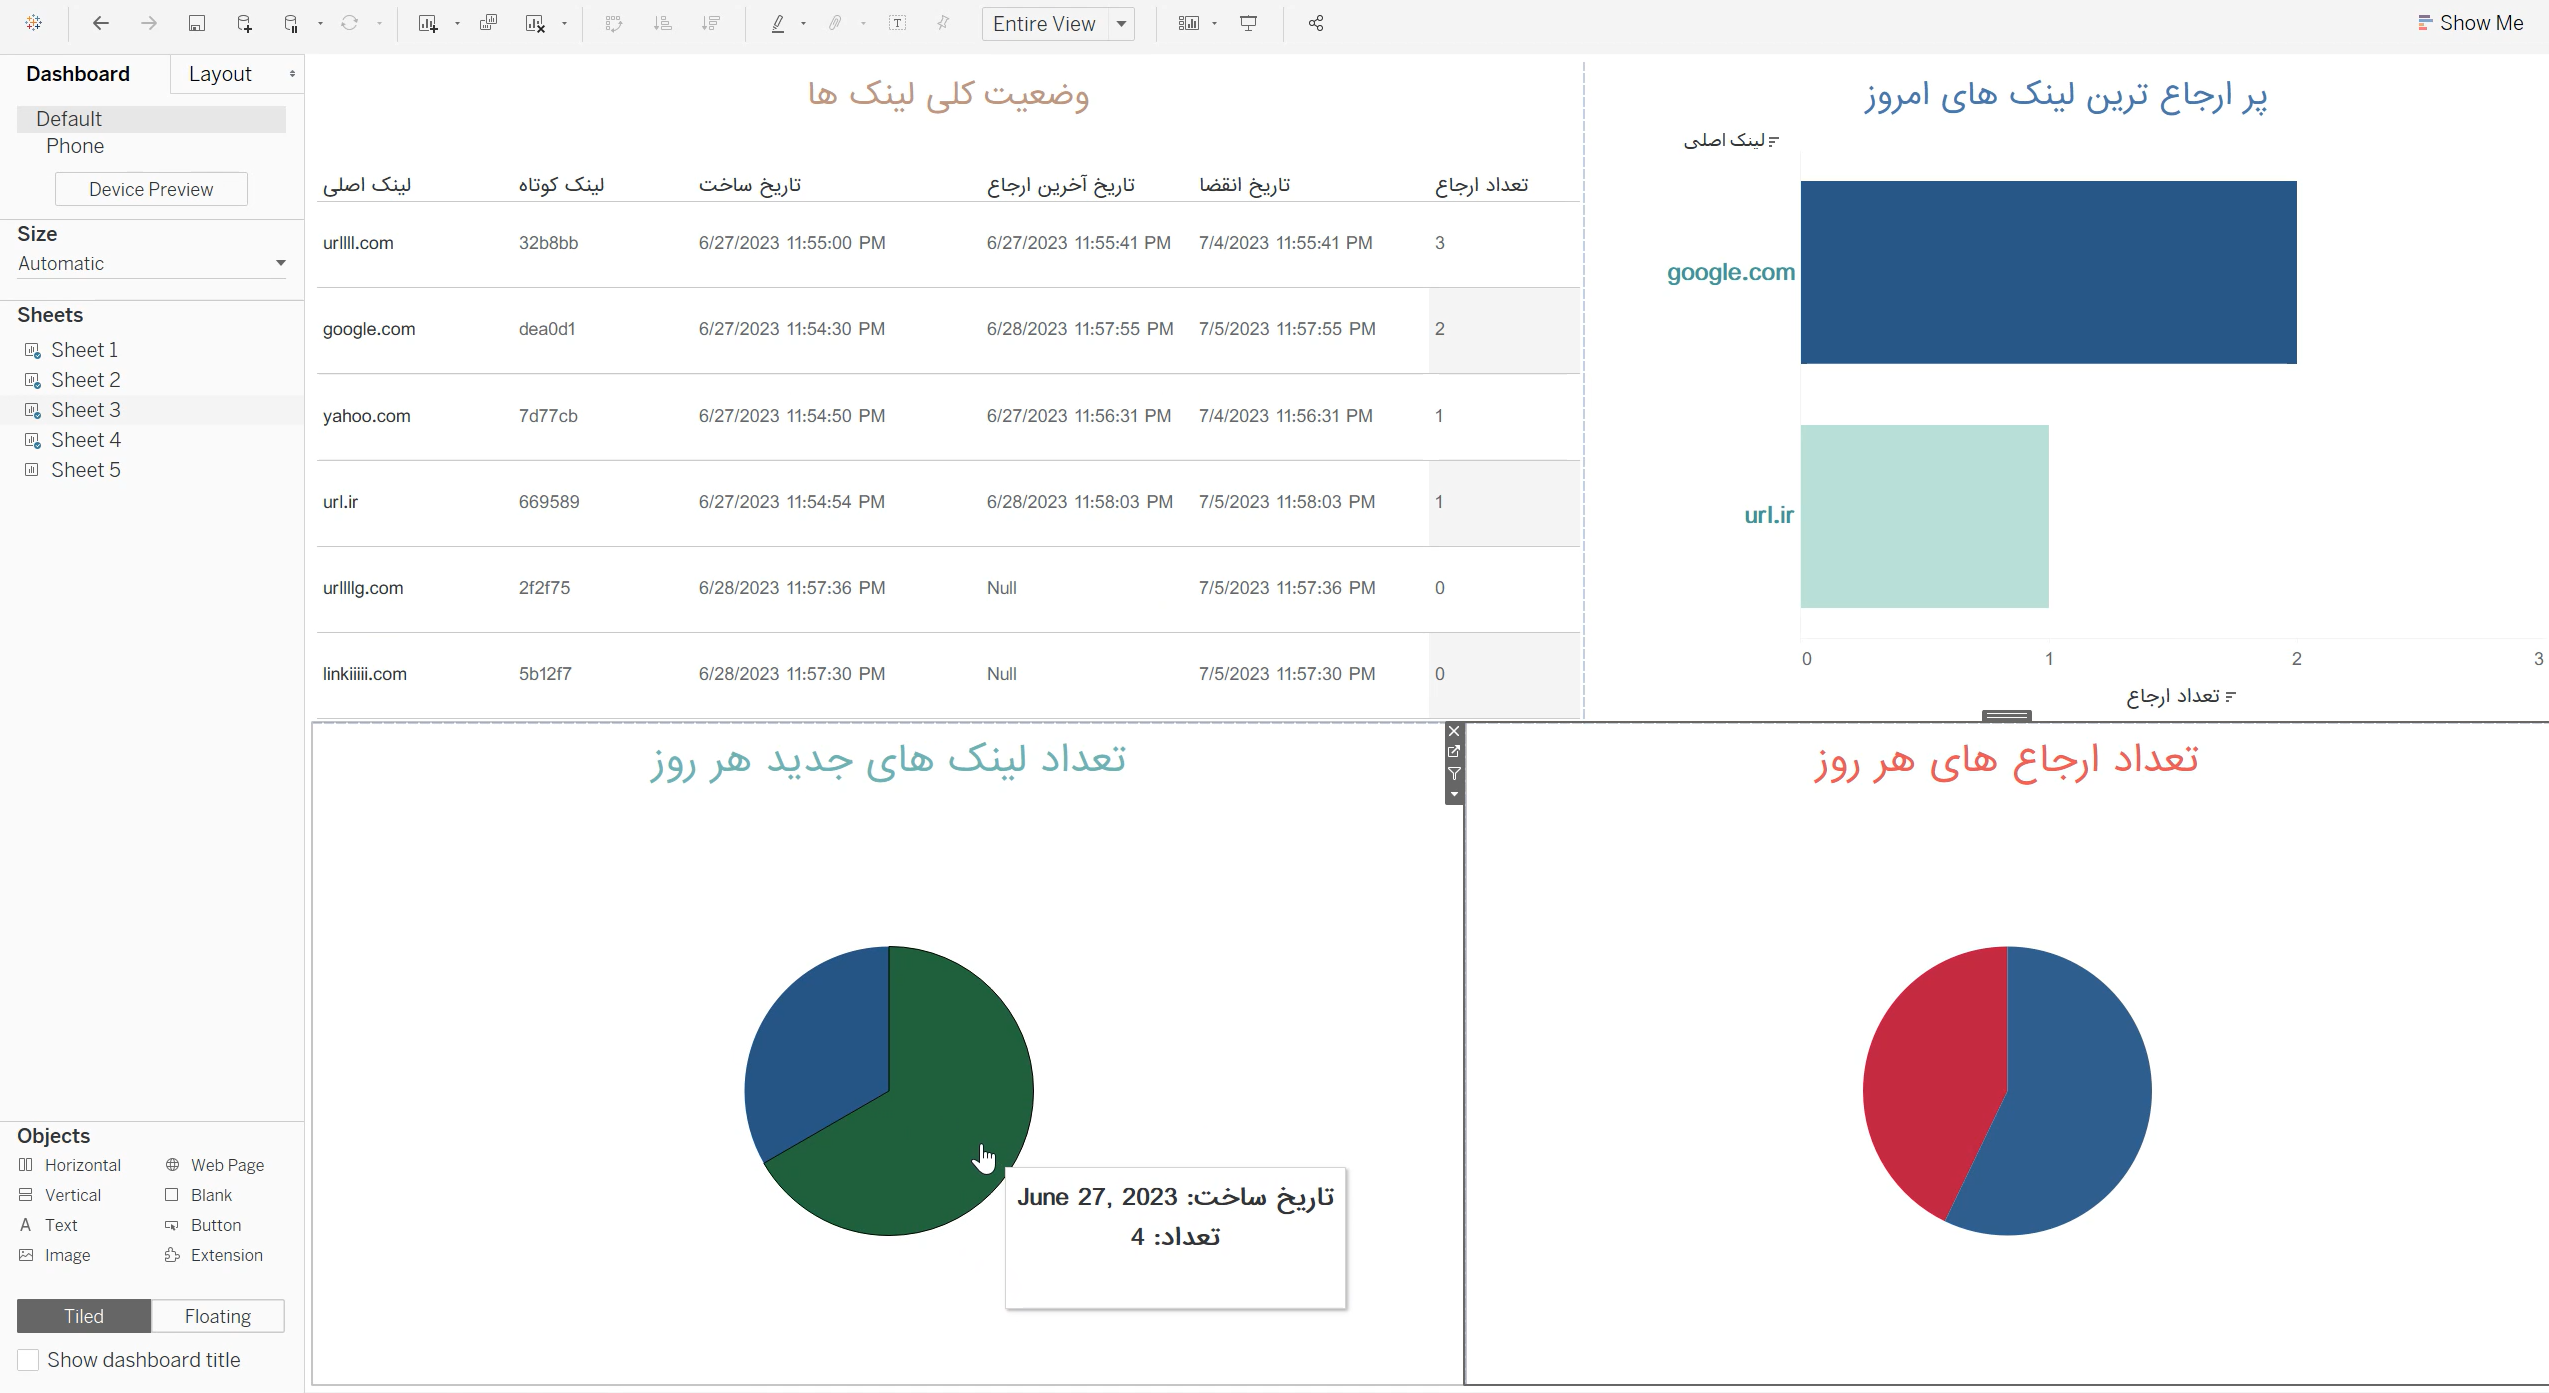

The dashboard page shown, as its layout file describes it:
{"tool":"tableau","page":{"name":"Dashboard 1","canvas":[1000,1000],"units":"permille","ordinal":0},"visuals":[{"type":"worksheet","title":"Sheet 4","mark":"Automatic","rows":["original_url","short_url","created_at","last_referenced_at","expires_at","num_referrals"],"box":[3.6,6,564.1,494]},{"type":"worksheet","title":"Sheet 1","mark":"Automatic","rows":["original_url"],"cols":["num_referrals"],"box":[567.7,6,428.8,494]},{"type":"worksheet","title":"Sheet 2","mark":"Pie","box":[3.6,500,511.3,494]},{"type":"worksheet","title":"Sheet 3","mark":"Pie","box":[514.9,500,481.6,494]}]}

Visuals, with their boxes on the dashboard's canvas, which has no fixed pixel size, in thousandths of its width and height (x1, y1, x2, y2). These are canvas units, not pixel positions in the 2549x1393 screenshot, which may show the page scaled, cropped or inside an application window:
"Sheet 4" worksheet: 4, 6, 568, 500
"Sheet 1" worksheet: 568, 6, 996, 500
"Sheet 2" worksheet (Pie marks): 4, 500, 515, 994
"Sheet 3" worksheet (Pie marks): 515, 500, 996, 994
